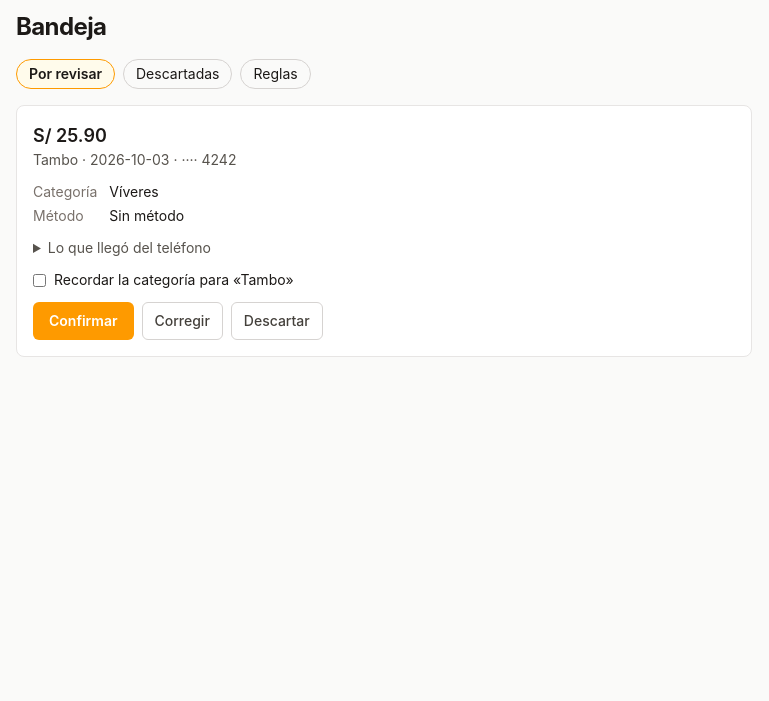
Test case: InboxScreen › discards a capture and undoes it (decision 11)
Click the button "Descartar": {"x": 277, "y": 321} [231, 302, 323, 340]
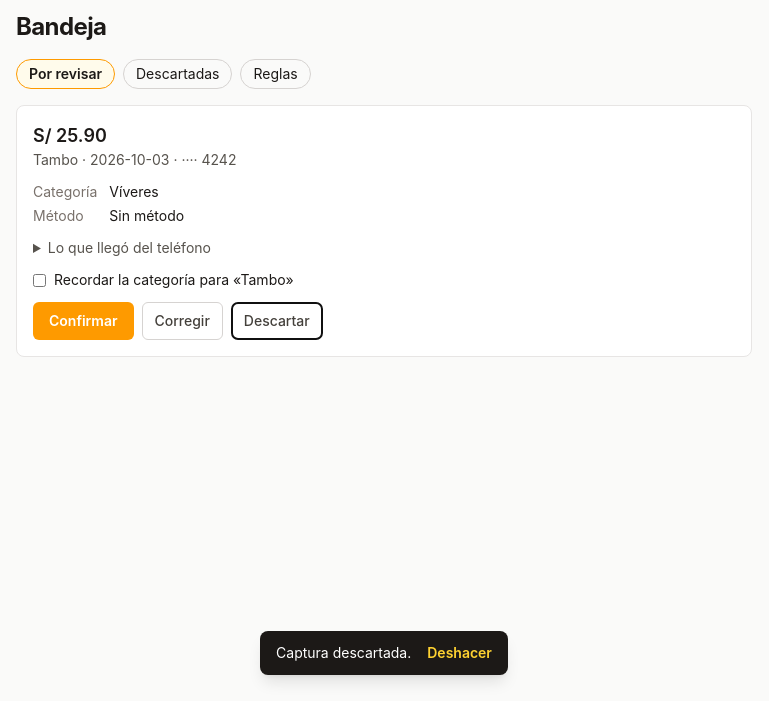
Click the button "Deshacer": {"x": 460, "y": 653} [427, 643, 492, 663]
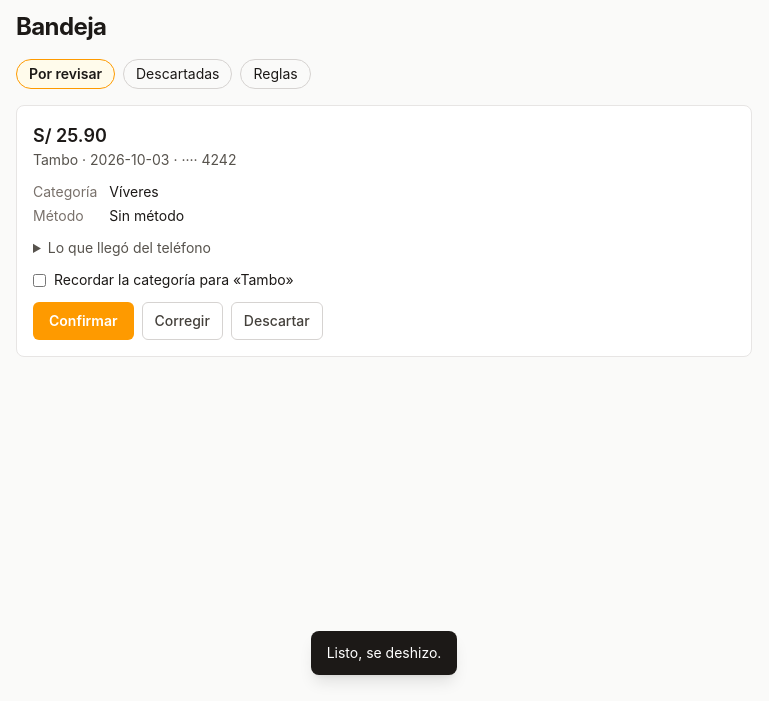
expect the text "Listo, se deshizo." is shown: met, box [311, 631, 457, 675]
